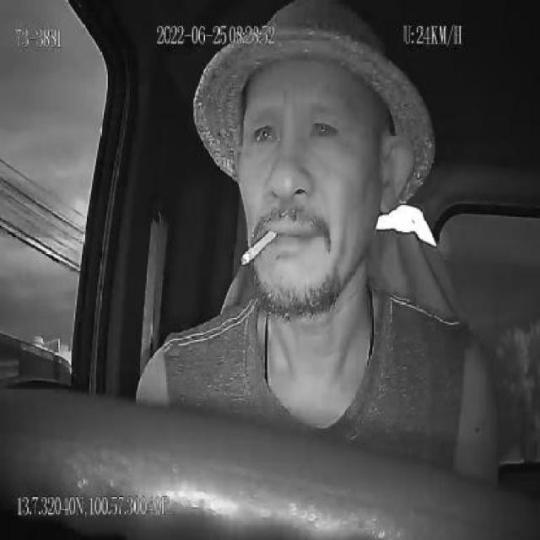smoking: (240, 222, 278, 267)
